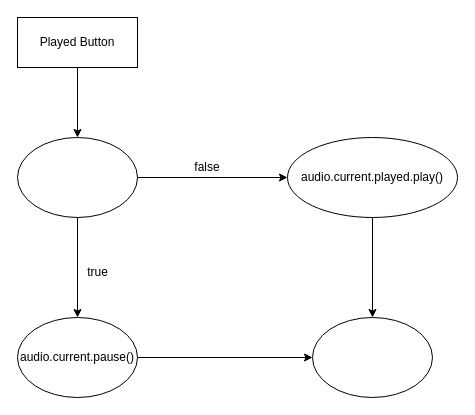
The diagram is 475 pixels wide and 415 high, and some of its shapes have lost their labels. The centre of each missing label's shape, as x and y in pixels:
"musicAction.played === true" belongs at pixel 77 177.
"played: !played" belongs at pixel 372 357.
